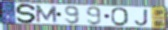9: (85, 5, 103, 26), (64, 5, 81, 26)
J: (134, 9, 150, 27)
M: (34, 5, 59, 24)
O: (110, 7, 130, 27)
S: (15, 3, 39, 24)
